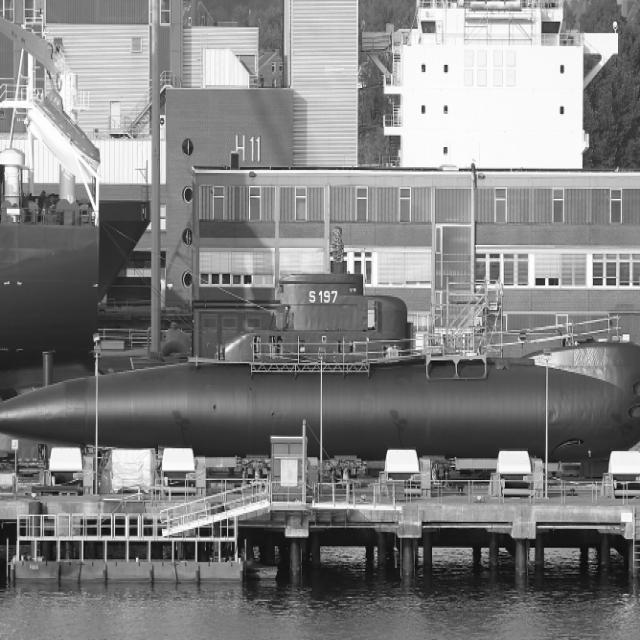submarine: (1, 276, 640, 458)
